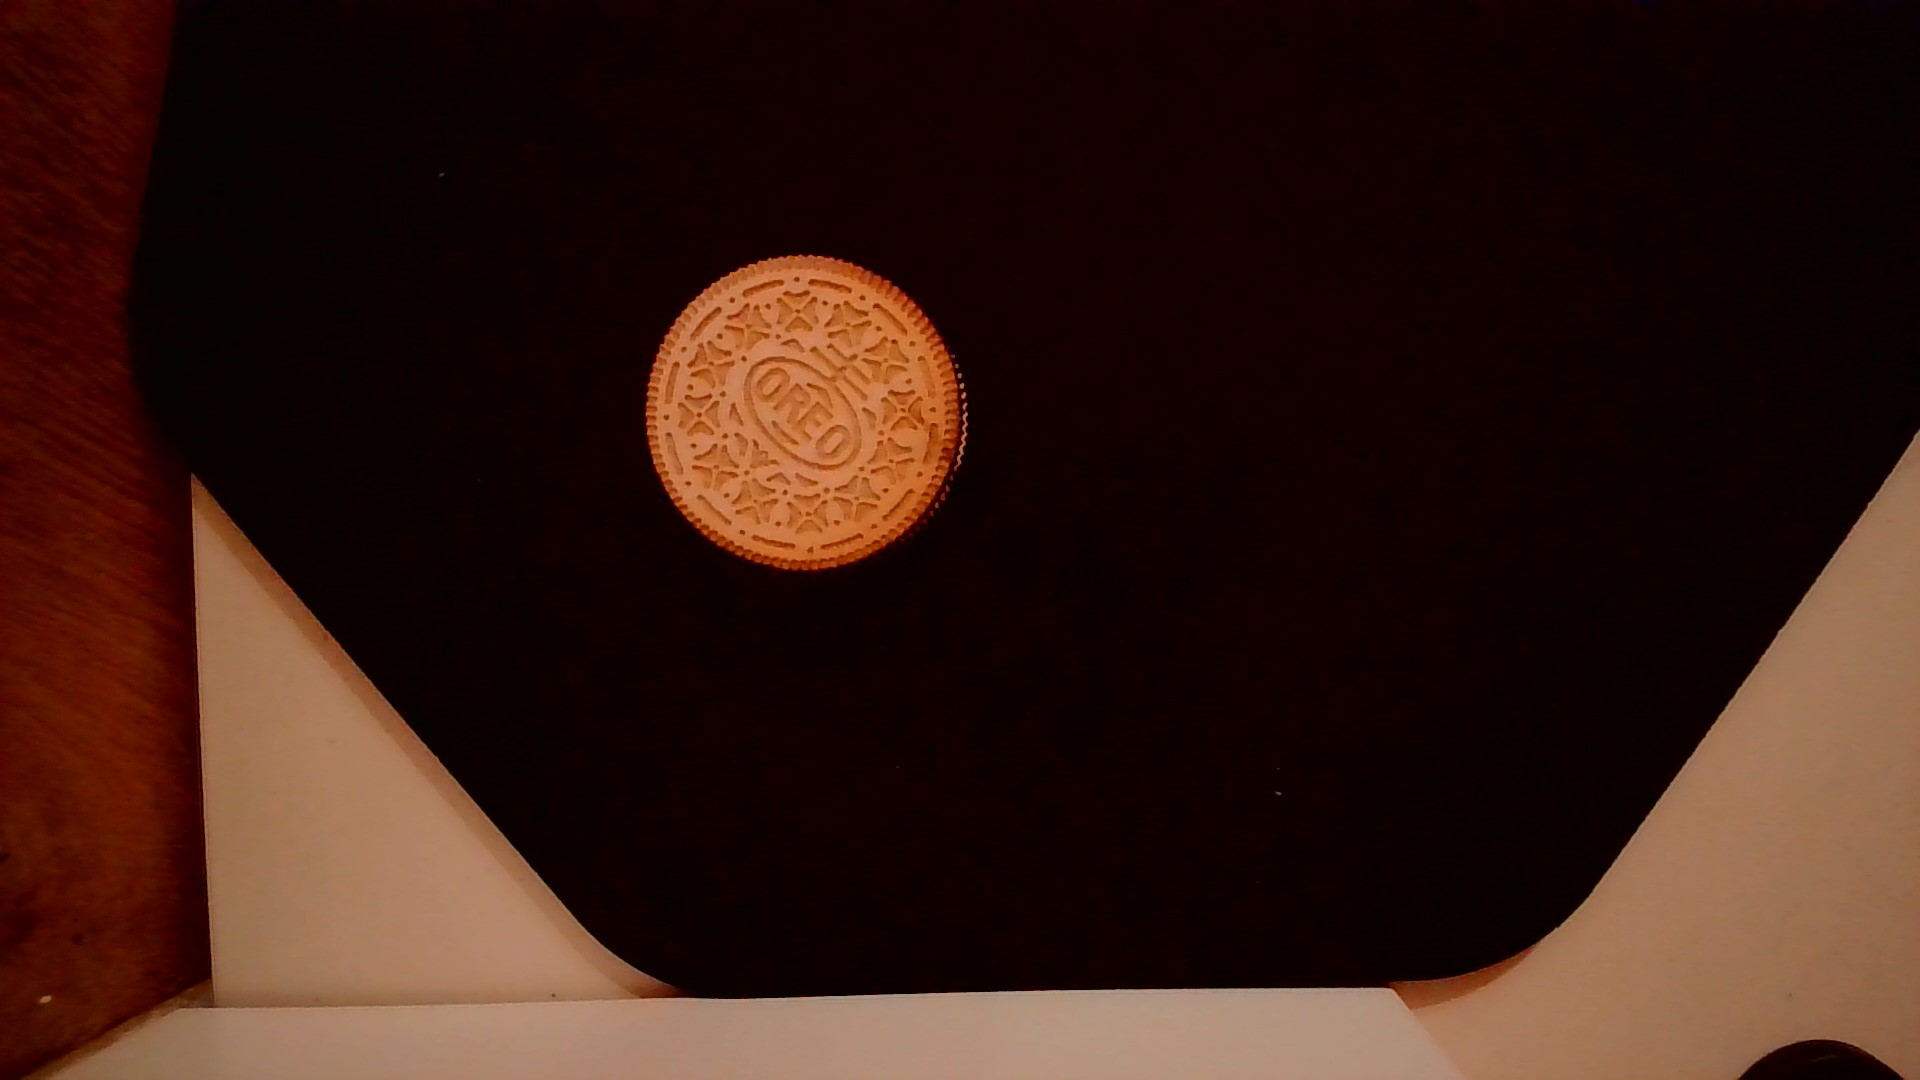Oréo: (636, 245, 978, 583)
